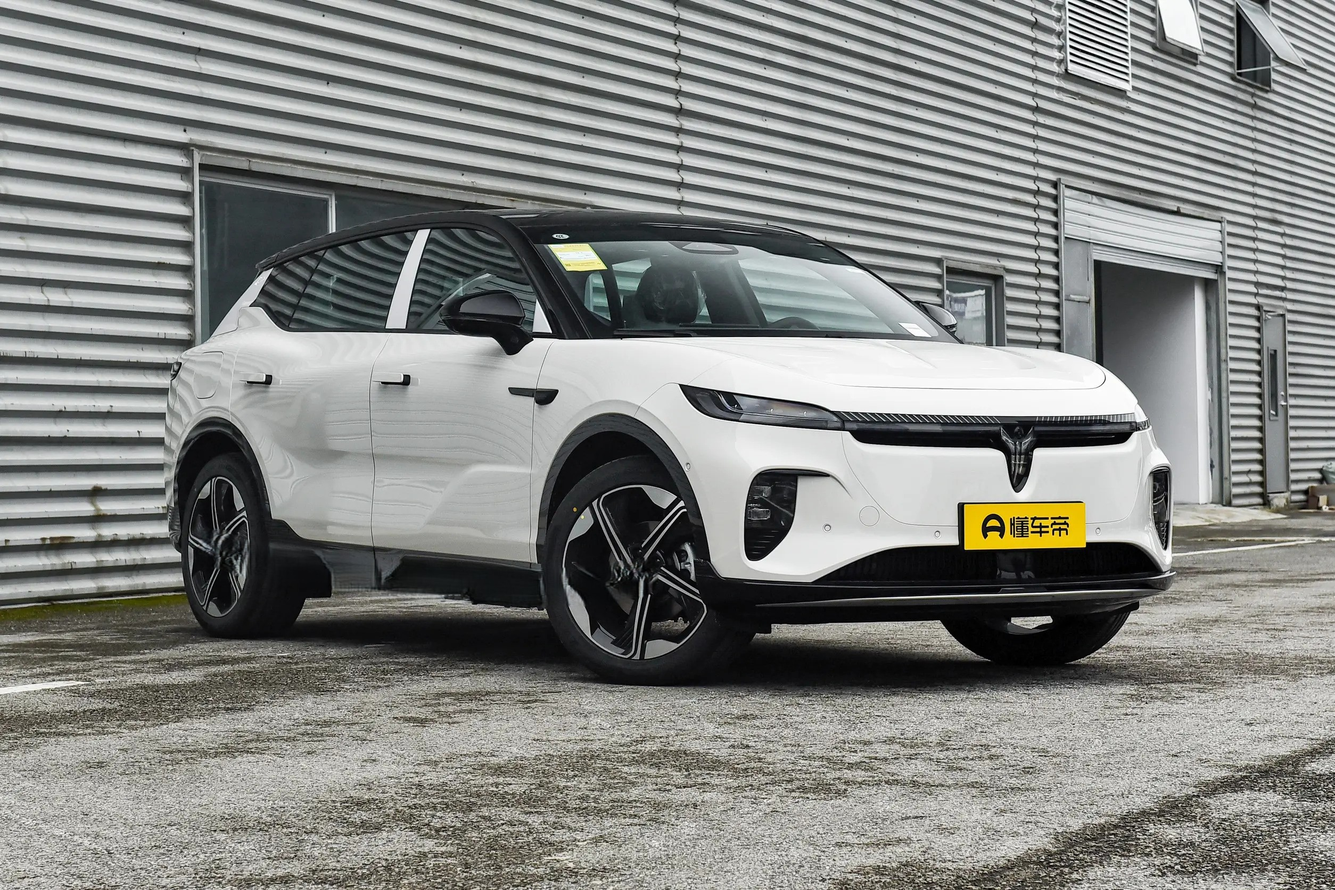VOYAH: (1001, 427, 1033, 485)
